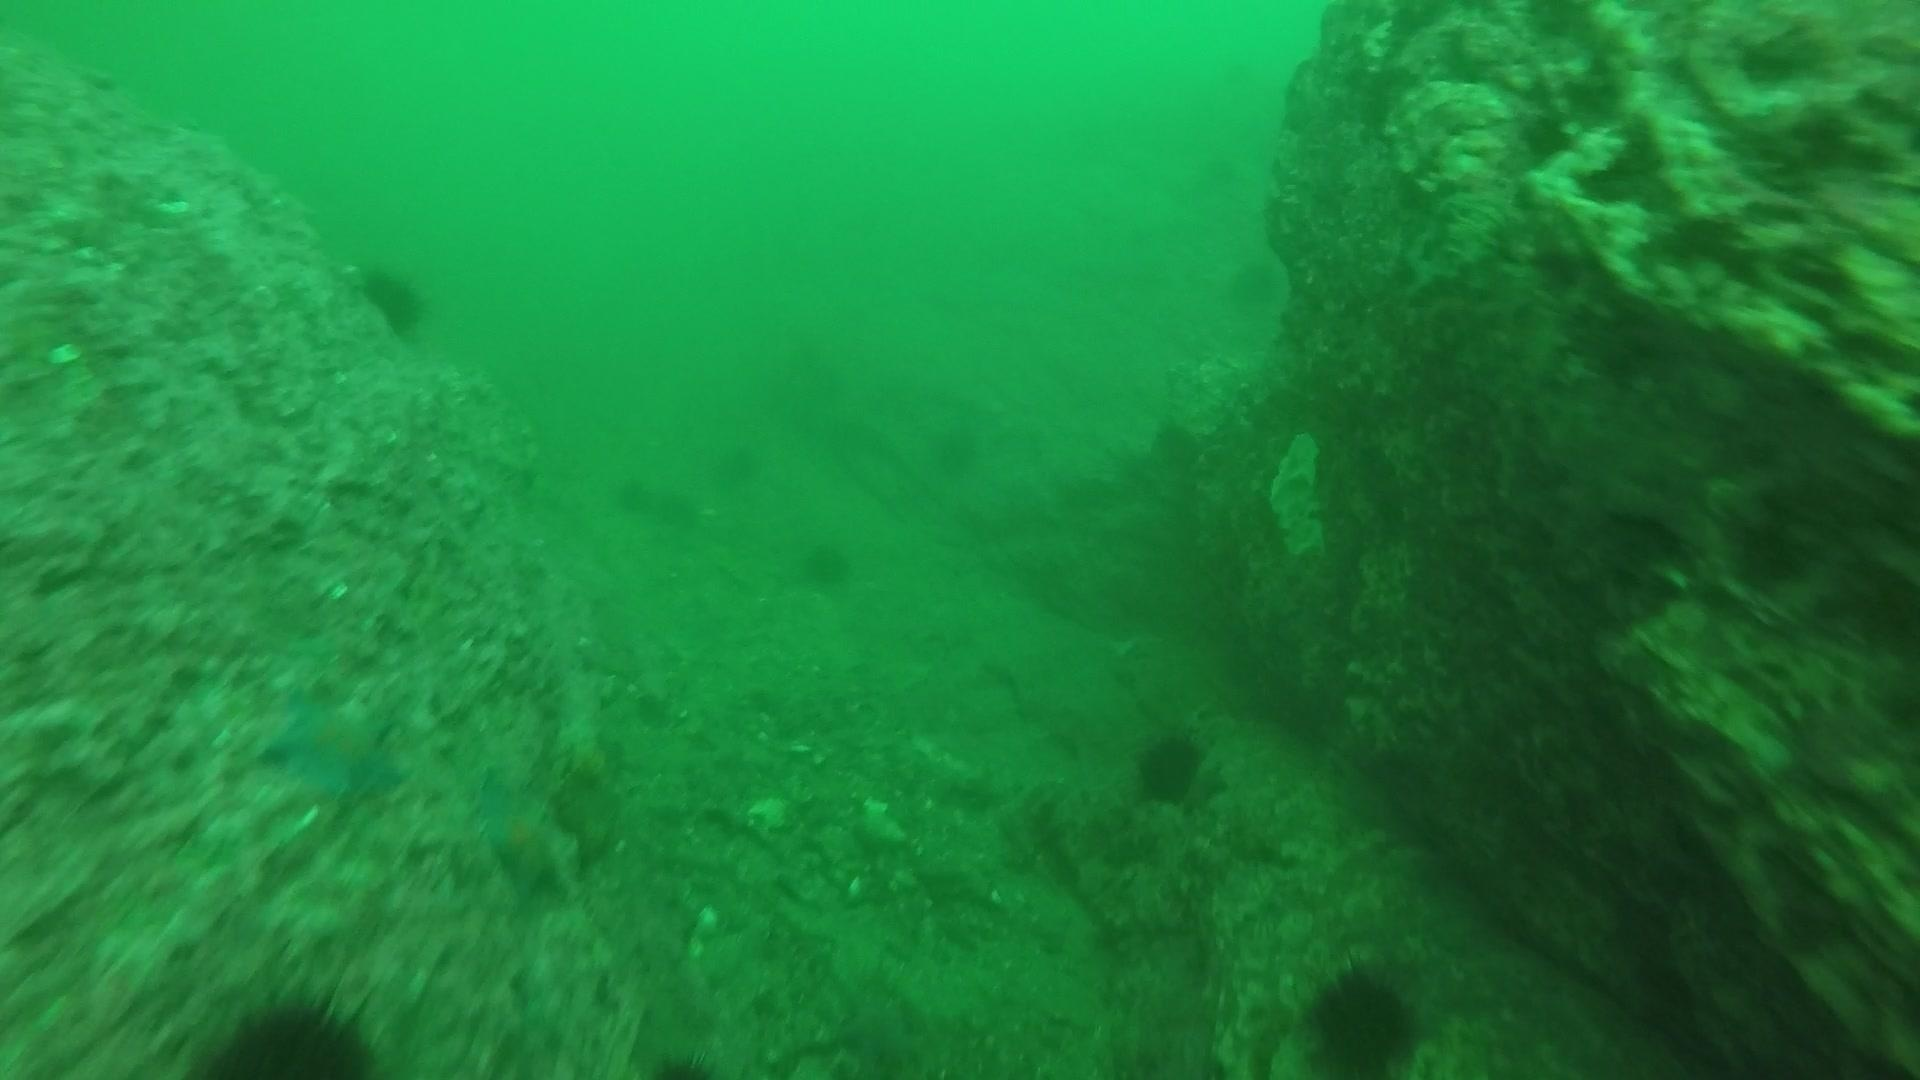echinus: (196, 989, 385, 1077), (1298, 957, 1427, 1075), (1127, 724, 1215, 810), (698, 421, 781, 502), (901, 415, 982, 497), (1218, 243, 1302, 323), (351, 258, 433, 339), (647, 480, 709, 545), (596, 467, 657, 531), (793, 534, 858, 593)
holothurian: (1022, 771, 1137, 948)
starfish: (257, 684, 411, 810), (462, 767, 582, 899)
